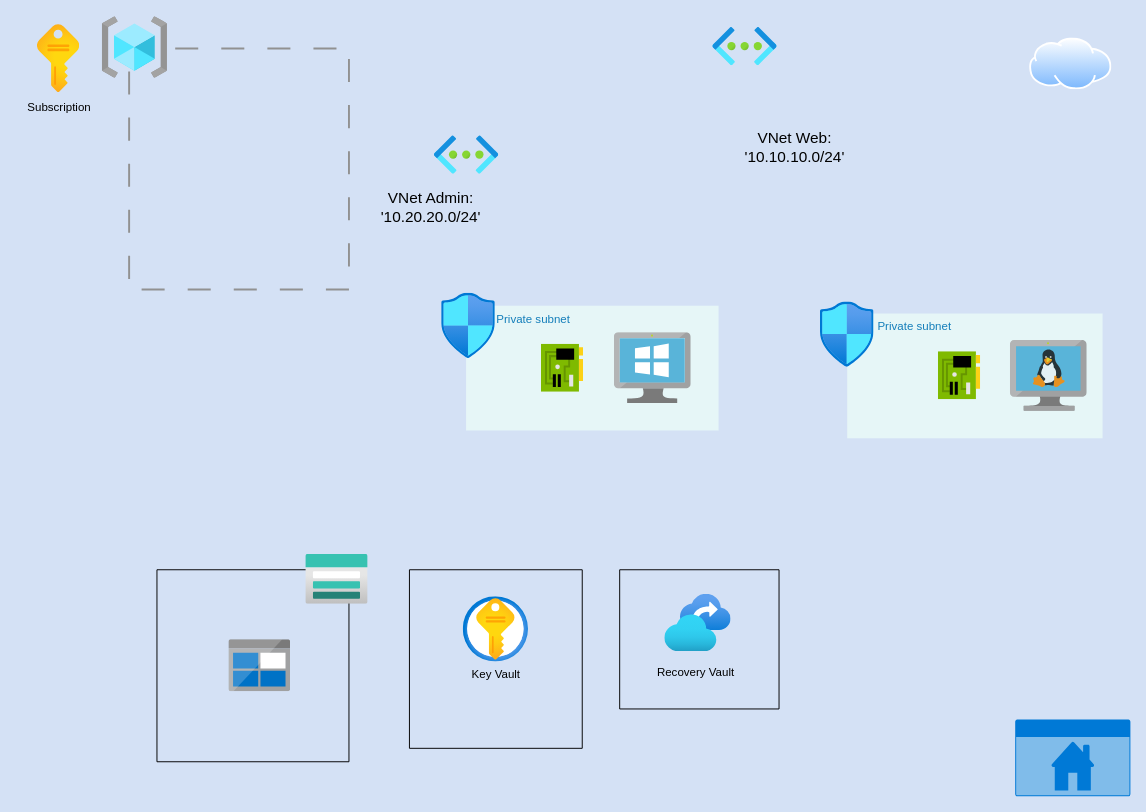
Image size: 1146x812. Some labels were removed from this diagram. Each missing label, with the box of its shape:
Home: (1015, 719, 1130, 796)
Resource Group: (128, 47, 349, 290)
